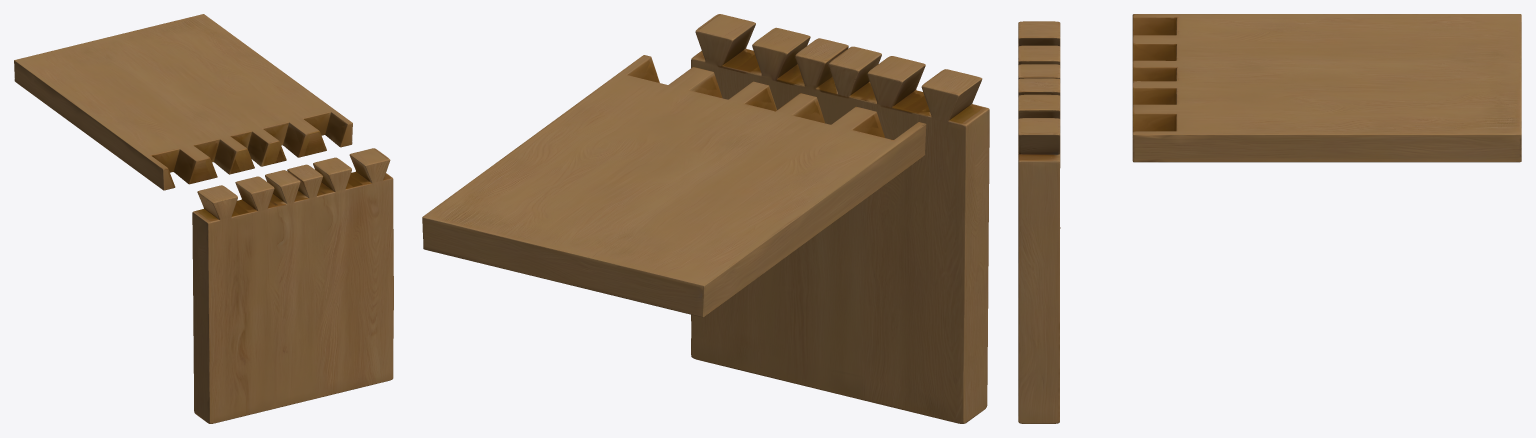
The model's file is 未命名.fbx.
3 renders of one model, left to right at view 1: azimuth 30°, elevation 25°; view 2: azimuth 150°, elevation 25°; view 3: azimuth 270°, elevation 25°, orthographic. The views are drawn at different scales.
Parts seen in each view (by area): view 1: node_0; view 2: node_0; view 3: node_0.
Part boxes in pixels (<box>): node_0: <box>14,14,393,423</box>; node_0: <box>422,14,989,423</box>; node_0: <box>1018,14,1521,423</box>.
Bounding box in the file's own units: 51.89 × 58.49 × 91.36.
Materials: 1 (1 with a texture image).
